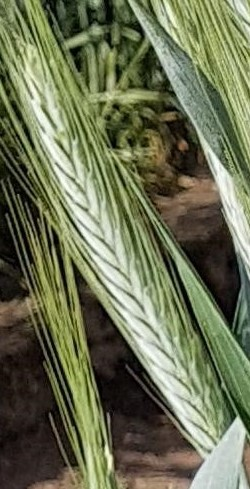Healthy Wheat: (16, 51, 225, 435)
